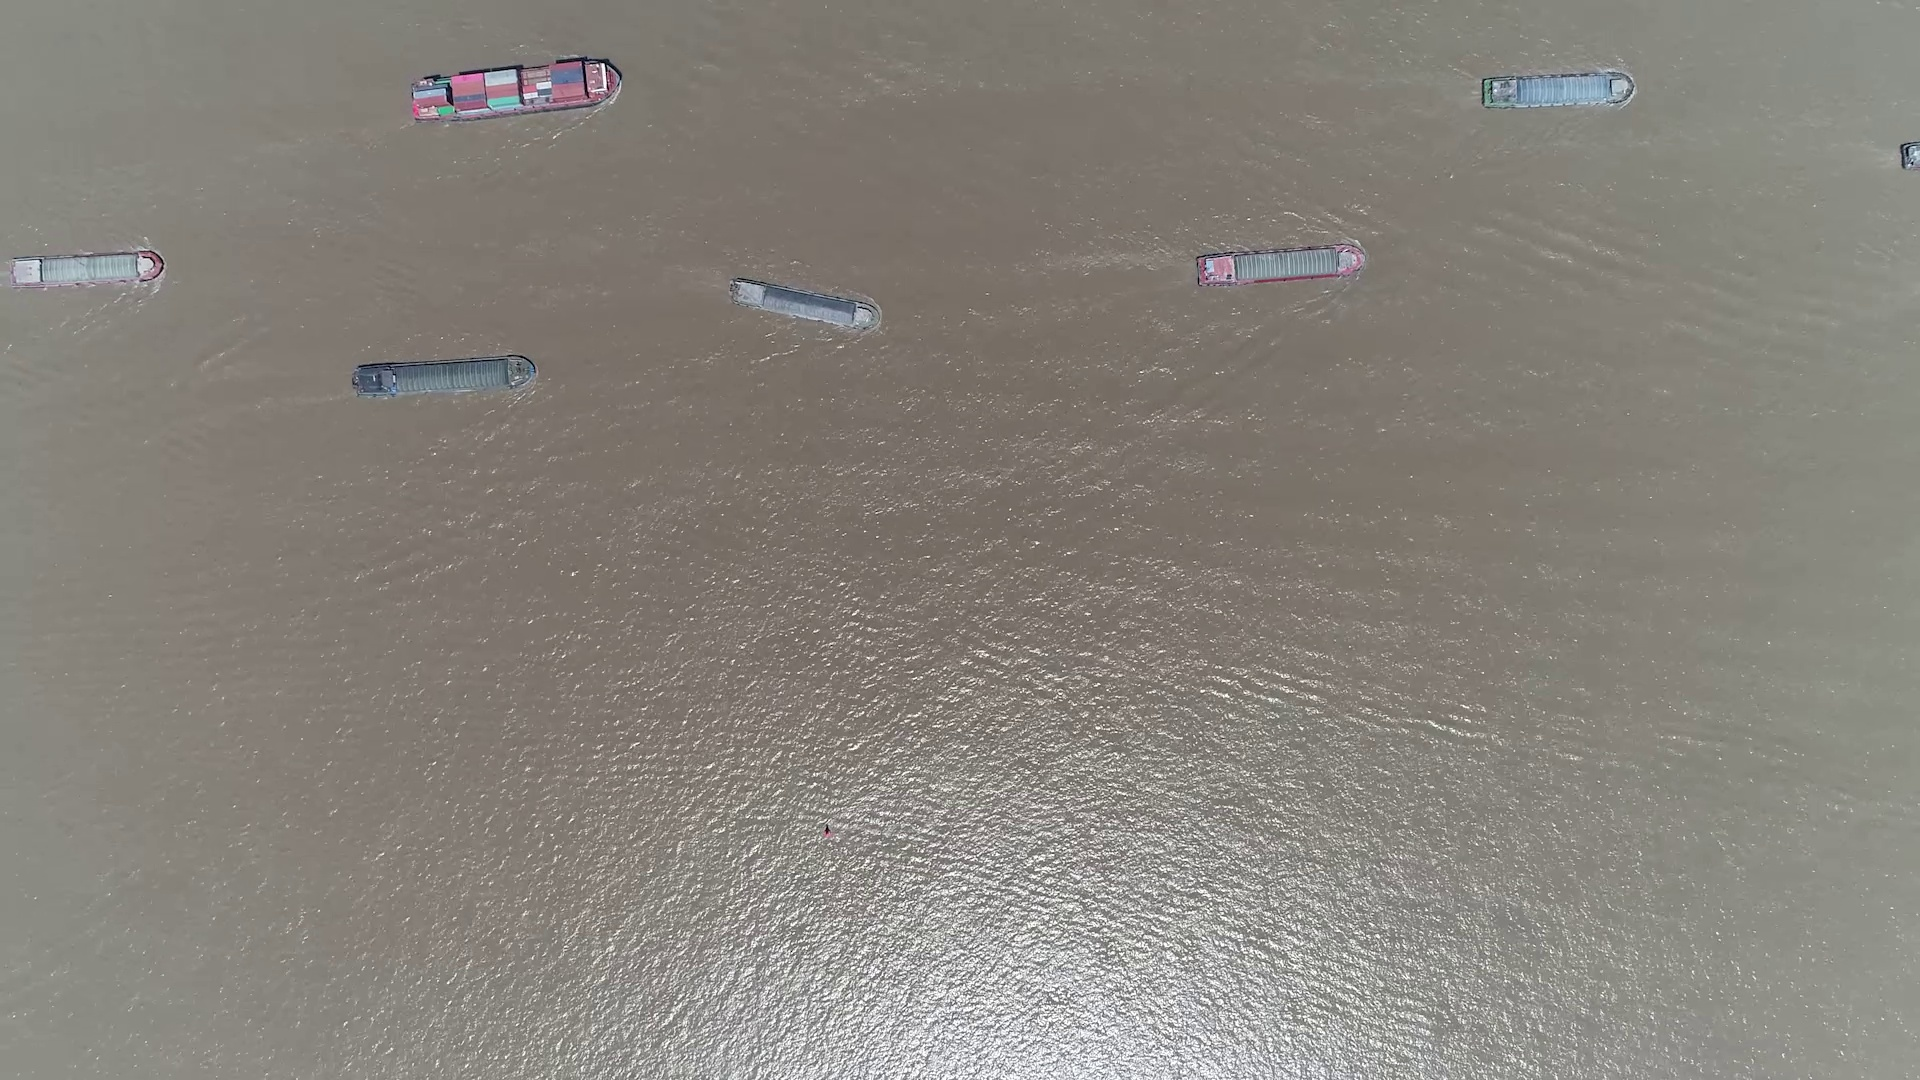ship: (410, 61, 621, 123), (728, 277, 880, 330), (353, 355, 534, 397), (1196, 244, 1364, 286), (8, 252, 164, 287), (1482, 73, 1633, 108)
